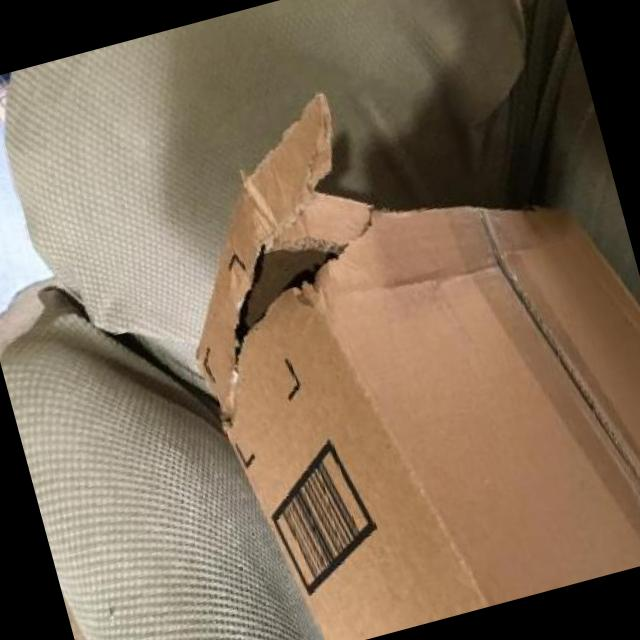box: (46, 70, 580, 588)
